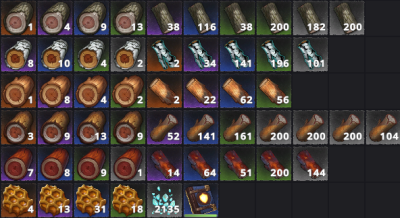ash heartwood: (74, 1, 110, 36), (38, 1, 73, 36), (1, 1, 36, 35), (111, 1, 145, 36)
ash log: (182, 1, 219, 36), (146, 1, 182, 36), (292, 1, 328, 36), (329, 1, 365, 36), (220, 1, 255, 35), (256, 1, 291, 35)
birch heartwood: (37, 36, 73, 72), (1, 36, 36, 72), (74, 37, 109, 72), (111, 37, 146, 72)
birch log: (293, 37, 329, 73), (146, 37, 183, 72), (219, 37, 255, 72), (256, 37, 292, 71), (184, 36, 218, 71)
ethereal dust: (147, 183, 182, 217)
oak heartwood: (1, 73, 36, 109), (38, 73, 73, 109), (74, 73, 109, 109), (111, 74, 146, 109)
oak log: (256, 73, 292, 109), (220, 74, 256, 109), (183, 74, 218, 109), (147, 74, 182, 108)
spruce heartwood: (1, 109, 36, 146), (38, 108, 73, 145), (110, 109, 146, 144), (75, 108, 109, 145)
spruce log: (147, 108, 183, 145), (292, 109, 329, 145), (219, 109, 255, 145), (256, 109, 292, 145), (366, 109, 400, 146), (184, 109, 219, 144), (330, 109, 364, 145)
yew heartwood: (73, 146, 110, 181), (1, 147, 37, 182), (37, 147, 73, 181), (111, 146, 145, 181)
yew log: (184, 146, 219, 182), (147, 146, 182, 181), (220, 146, 255, 181), (256, 147, 292, 181), (292, 147, 328, 181)
